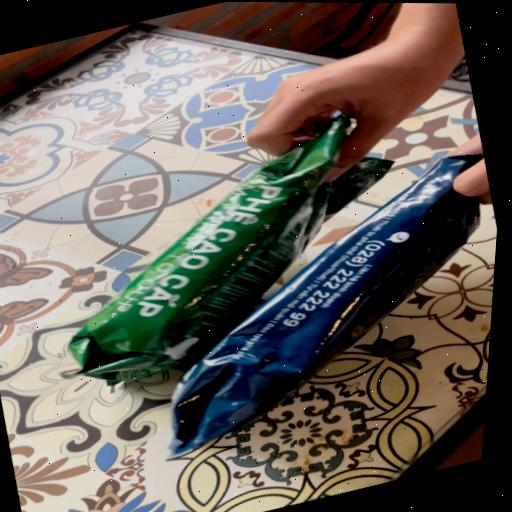cafe_hat: (171, 154, 481, 454)
cafe_xay: (69, 116, 350, 385)
